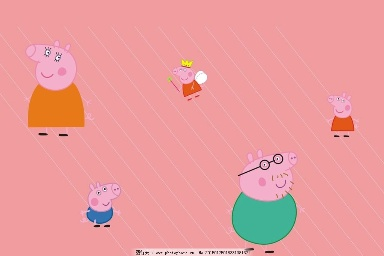Peppa: (166, 59, 207, 101), (325, 92, 358, 140)
